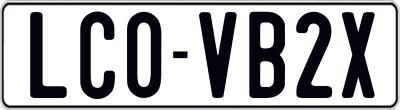0: (124, 10, 162, 100)
2: (293, 11, 332, 99)
B: (249, 9, 286, 101)
C: (78, 12, 116, 105)
L: (28, 12, 66, 102)
V: (197, 12, 235, 101)
X: (339, 9, 372, 100)
